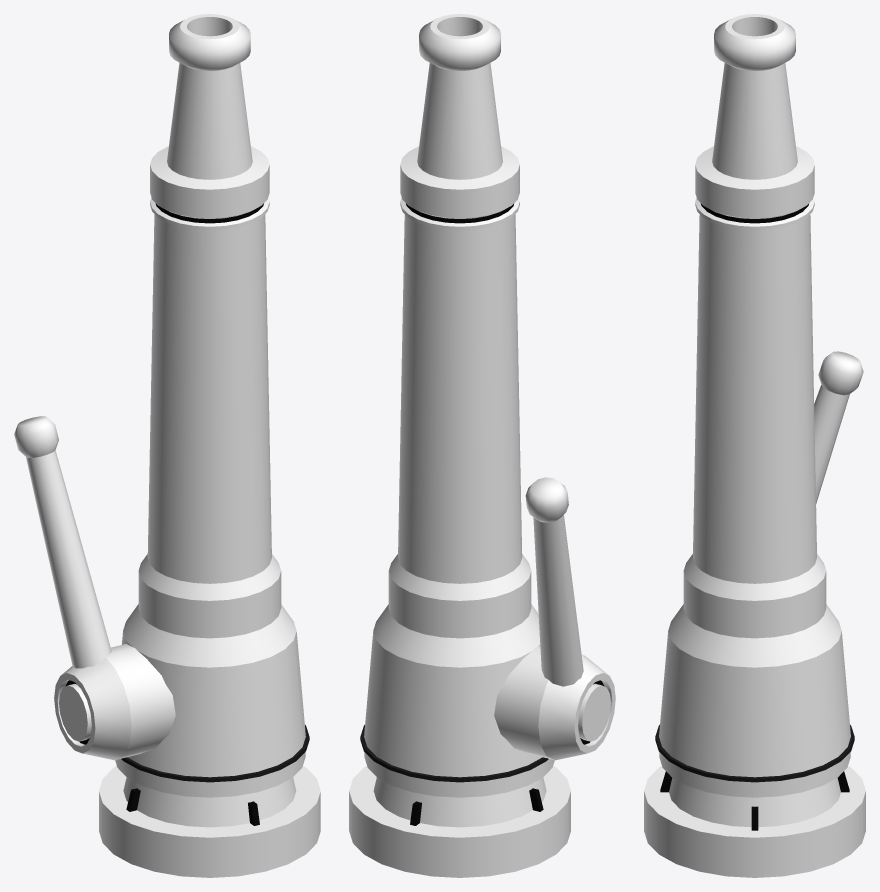
File: Wea_GaoYaShuiQiang_1X4_off.FBX
3 renders of one model, left to right at view 1: azimuth 30°, elevation 25°; view 2: azimuth 150°, elevation 25°; view 3: azimuth 270°, elevation 25°, orthographic.
Parts seen in each view (by area): view 1: Box001; view 2: Box001; view 3: Box001.
Boxes of the visible parts, x1=… form: Box001: x1=14, y1=14, x2=320, y2=877; Box001: x1=349, y1=14, x2=615, y2=877; Box001: x1=644, y1=14, x2=865, y2=877.
Bounding box in the file's own units: 1.28 × 4 × 1.
